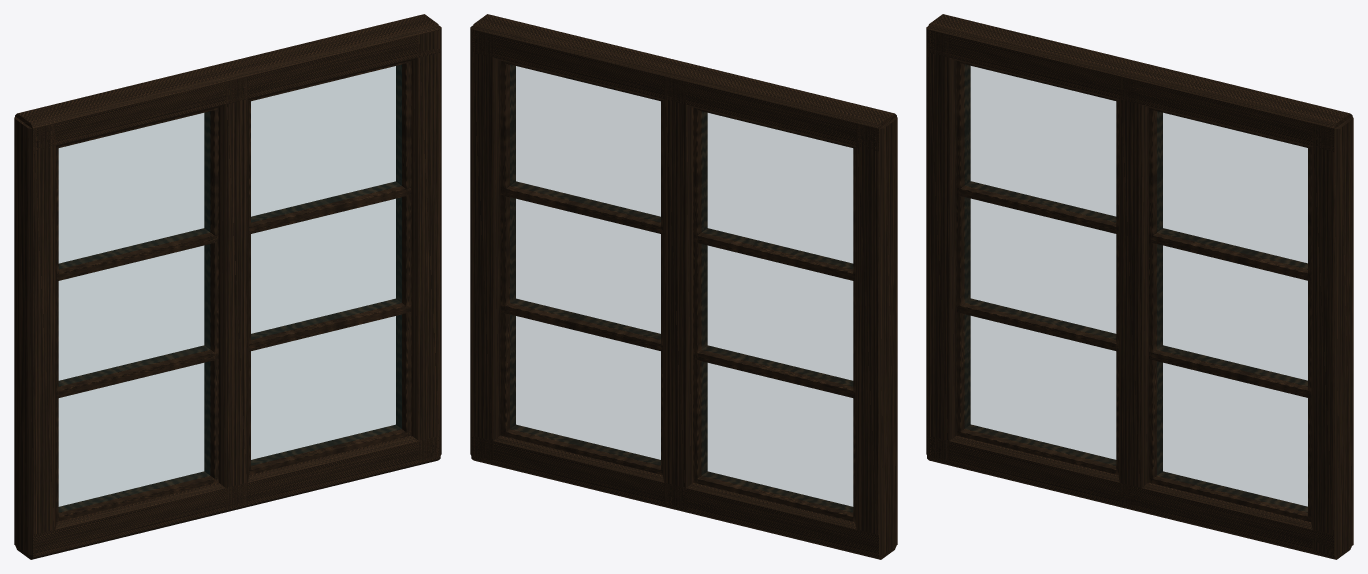
File: Project Name.gltf
The picture shows the model from 3 angles, left to right: view 1: azimuth 30°, elevation 25°; view 2: azimuth 150°, elevation 25°; view 3: azimuth 330°, elevation 25°; orthographic projection.
Visible parts, largest first — view 1: Cube.009_Cube.013, Cube_Cube.005; view 2: Cube.009_Cube.013, Cube_Cube.005; view 3: Cube.009_Cube.013, Cube_Cube.005.
Part boxes in pixels (<box>): Cube.009_Cube.013: <box>59,65,401,511</box>; Cube_Cube.005: <box>14,14,441,559</box>; Cube.009_Cube.013: <box>510,65,852,511</box>; Cube_Cube.005: <box>470,14,897,559</box>; Cube.009_Cube.013: <box>965,65,1307,511</box>; Cube_Cube.005: <box>926,14,1353,559</box>.
Size of the model in its own units: 0.00621 by 0.00626 by 0.000469.
2 materials, 1 textured.
